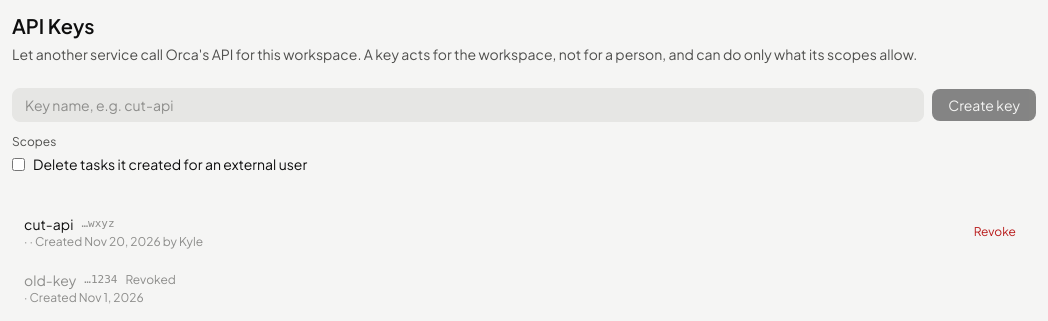
Test: ApiKeysSettings › disables the confirm button while a revoke runs
Click the button with test id "api-key-revoke-k1": (995, 232) 966,220 -> 1024,244
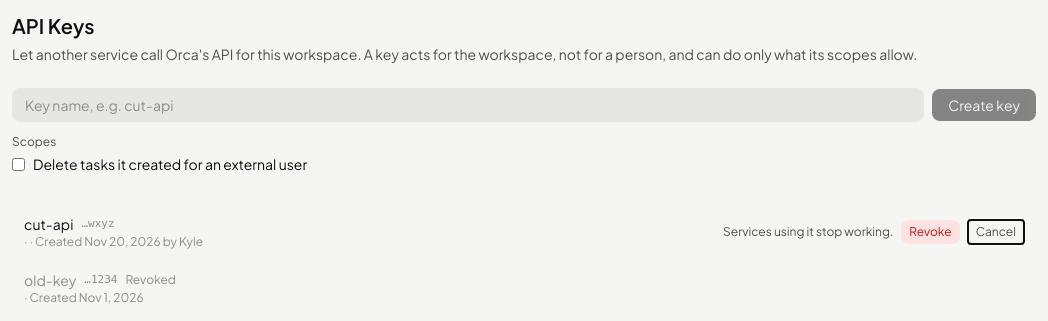
Click the button with test id "api-key-confirm-revoke-k1": (930, 232) 901,220 -> 960,244
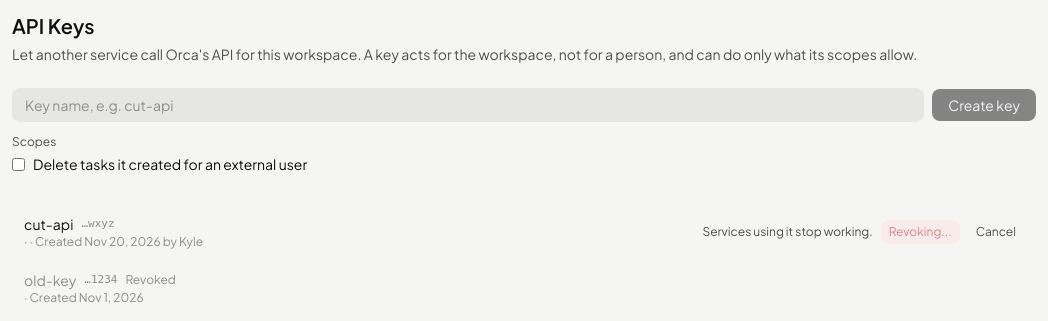
Expected: the button with test id "api-key-confirm-revoke-k1" is disabled
Click the button with test id "api-key-confirm-revoke-k1": (920, 232) 881,220 -> 960,244
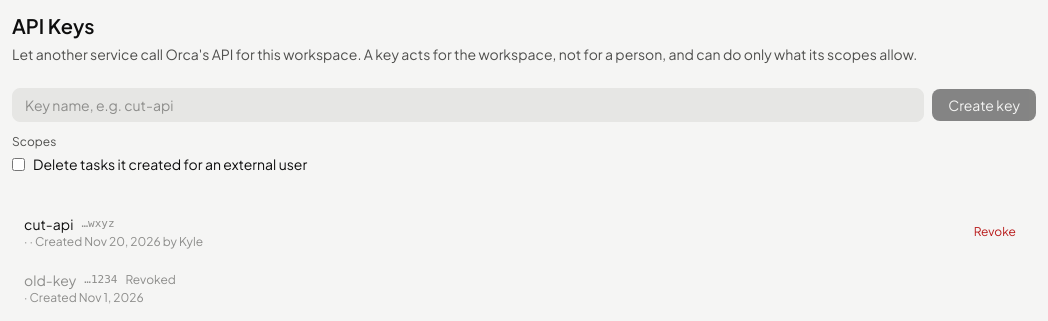
Expected: the button with test id "api-key-confirm-revoke-k1" is gone
